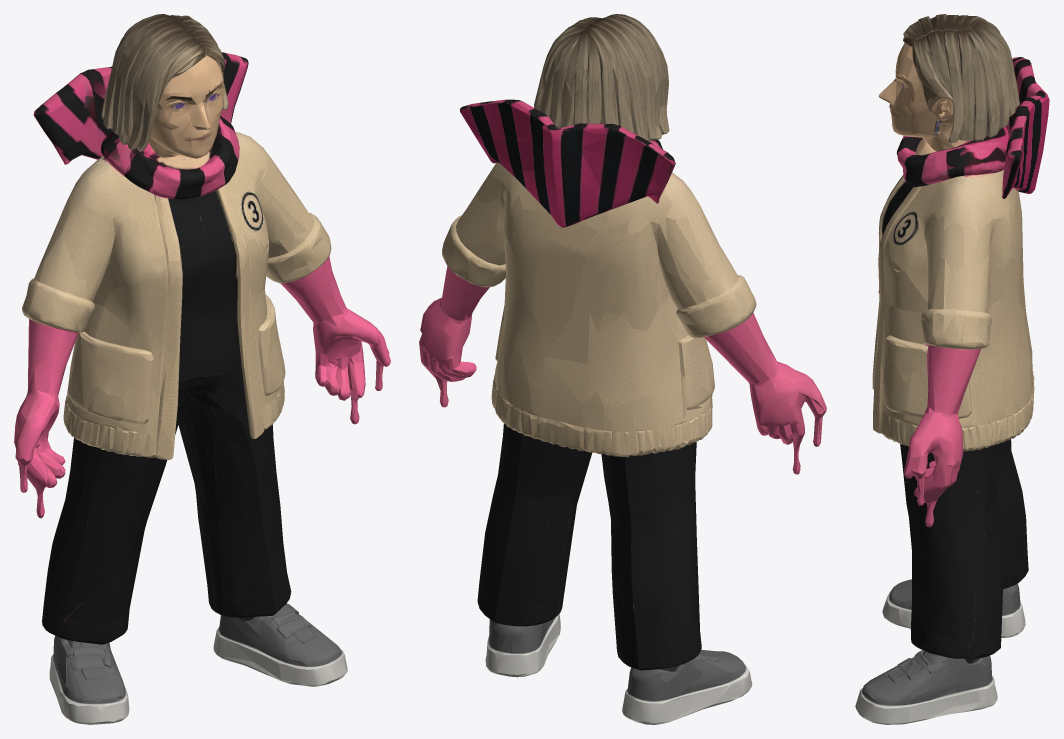
The picture shows the model from 3 angles, left to right: view 1: azimuth 30°, elevation 25°; view 2: azimuth 150°, elevation 25°; view 3: azimuth 270°, elevation 25°; orthographic projection. The views are drawn at different scales.
Size of the model in its own units: 1.17 by 1.9 by 0.5202.
Materials: 1 (1 with a texture image).
